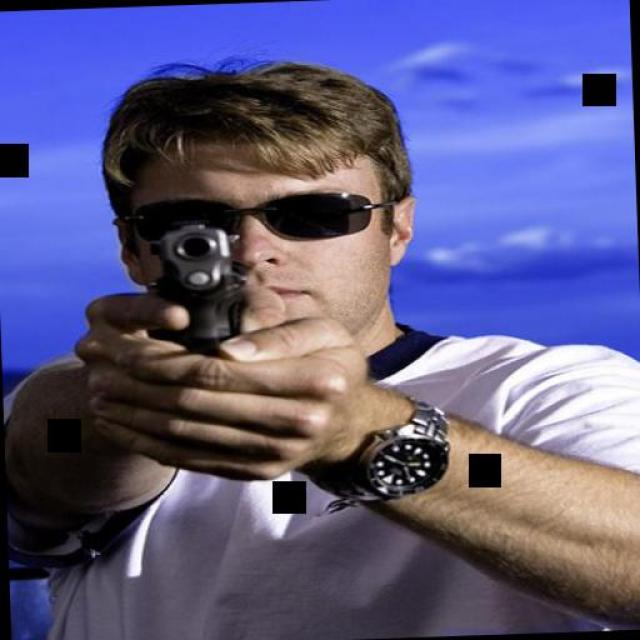gun: (150, 219, 241, 356)
